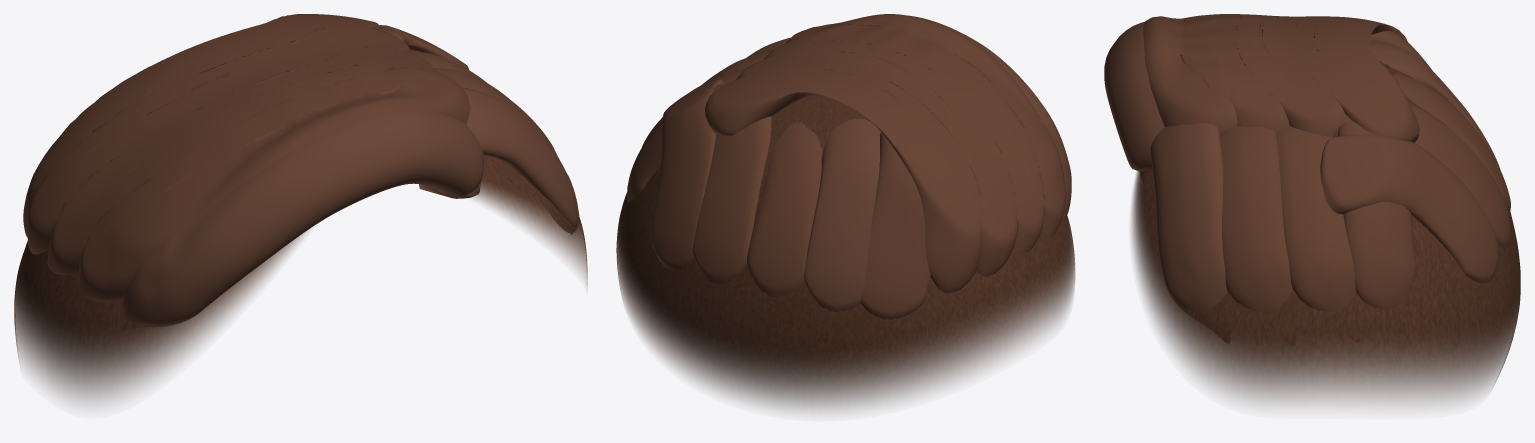
File: Masculine-taper-pashmina252-hair.glb
3 renders of one model, left to right at view 1: azimuth 30°, elevation 25°; view 2: azimuth 150°, elevation 25°; view 3: azimuth 270°, elevation 25°, orthographic. The views are drawn at different scales.
Visible parts, largest first — view 1: 226 hair / Hair252 / sculpted locks.001, 226 hair / Hair252 / gentle tonal variation.001, 226 hair / Hair252 / restored153 fade coverage.001; view 2: 226 hair / Hair252 / sculpted locks.001, 226 hair / Hair252 / restored153 fade coverage.001, 226 hair / Hair252 / gentle tonal variation.001; view 3: 226 hair / Hair252 / sculpted locks.001, 226 hair / Hair252 / restored153 fade coverage.001, 226 hair / Hair252 / gentle tonal variation.001.
Boxes of the visible parts, left/top/right/bottom form: 226 hair / Hair252 / sculpted locks.001: left=23, top=14, right=559, bottom=301; 226 hair / Hair252 / gentle tonal variation.001: left=122, top=87, right=579, bottom=326; 226 hair / Hair252 / restored153 fade coverage.001: left=14, top=155, right=587, bottom=403; 226 hair / Hair252 / sculpted locks.001: left=627, top=14, right=1066, bottom=319; 226 hair / Hair252 / restored153 fade coverage.001: left=616, top=95, right=1075, bottom=411; 226 hair / Hair252 / gentle tonal variation.001: left=746, top=15, right=1071, bottom=312; 226 hair / Hair252 / sculpted locks.001: left=1143, top=14, right=1510, bottom=311; 226 hair / Hair252 / restored153 fade coverage.001: left=1131, top=61, right=1520, bottom=405; 226 hair / Hair252 / gentle tonal variation.001: left=1104, top=22, right=1499, bottom=310.
Bounding box in the file's own units: 0.976 × 0.6775 × 0.7562.
3 materials, 1 textured.
